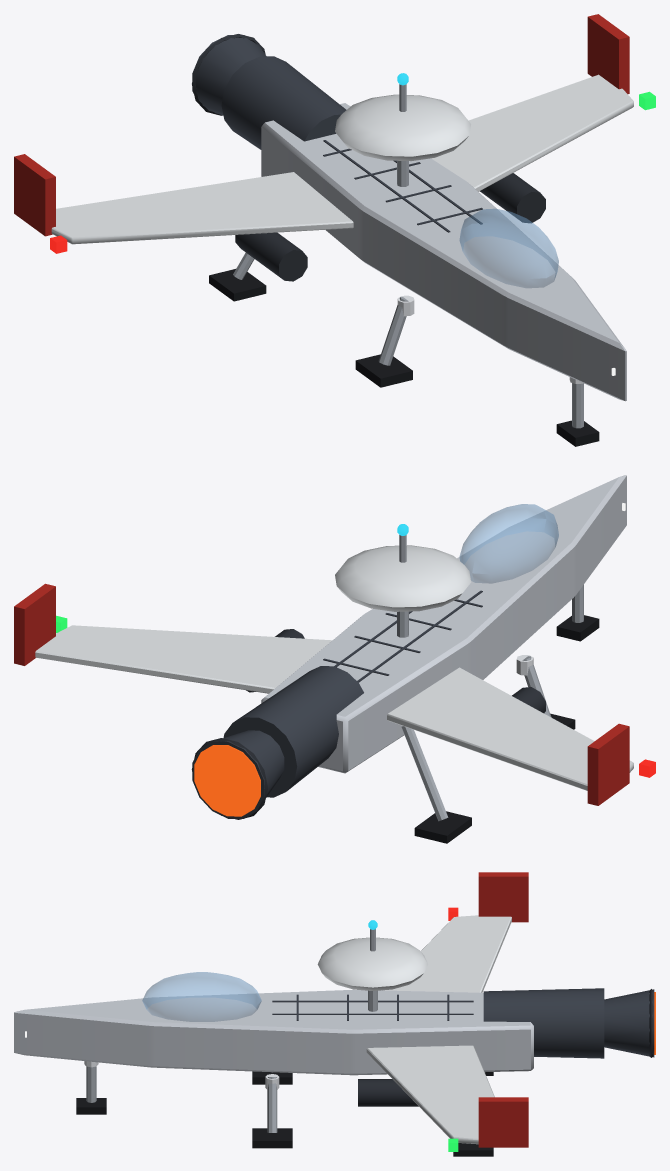
Rendered from craft_scout.glb.
3 renders of one model, top to bottom at view 1: azimuth 30°, elevation 25°; view 2: azimuth 150°, elevation 25°; view 3: azimuth 270°, elevation 25°, orthographic. The views are drawn at different scales.
Parts seen in each view (by area): view 1: craft_scout; view 2: craft_scout; view 3: craft_scout.
Boxes of the visible parts, x1,y1,x2,y2 form: craft_scout: (14, 14, 655, 446); craft_scout: (14, 475, 655, 843); craft_scout: (14, 872, 655, 1156).
Bounding box in the file's own units: 5.54 × 2.08 × 6.39.
